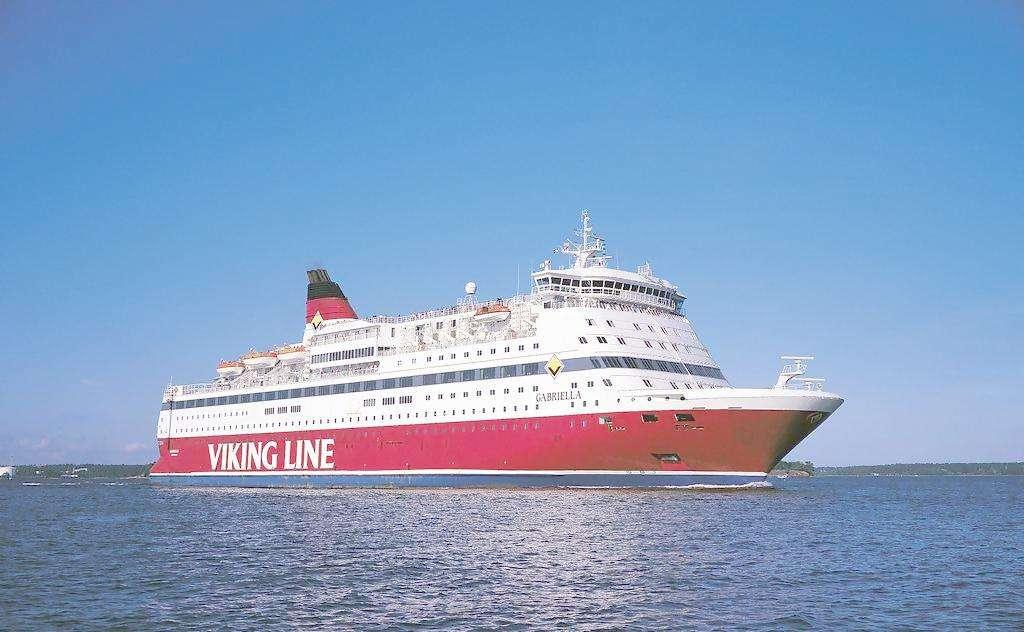youlun: (141, 210, 853, 494)
